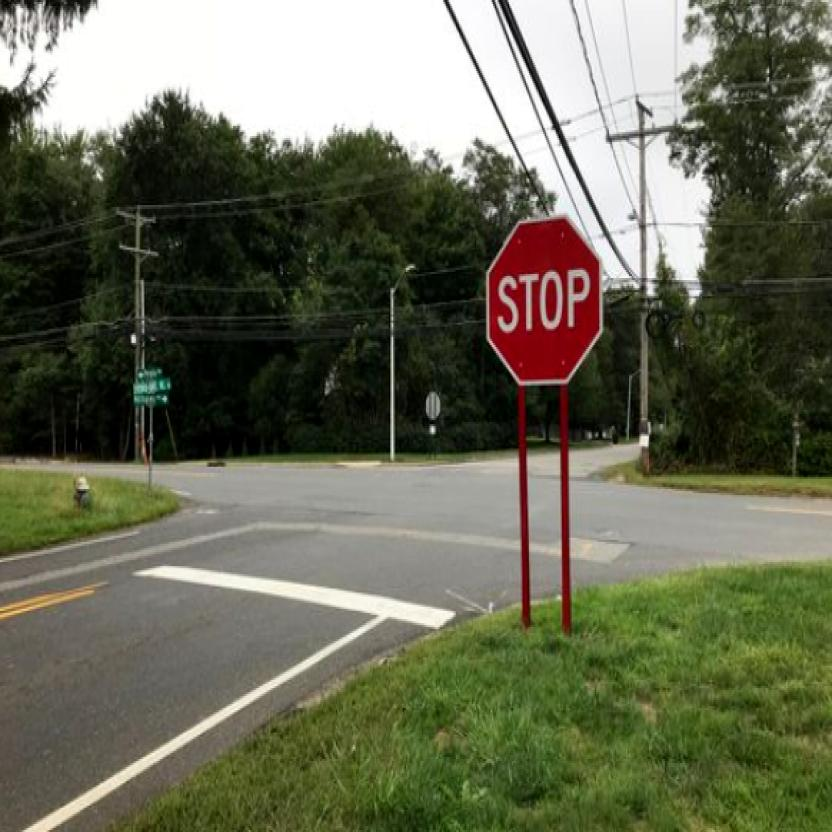Pole: (516, 392, 532, 626), (558, 386, 572, 632), (148, 406, 153, 494)
Sign: (486, 217, 606, 384)
